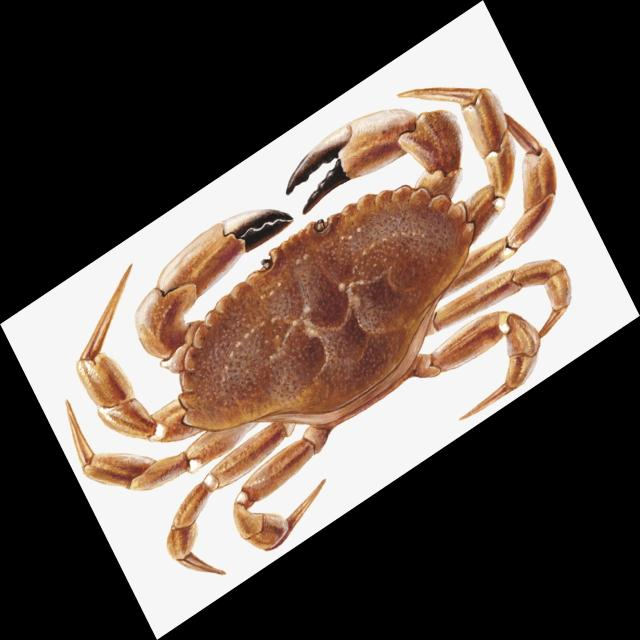Native Jonah crab: (66, 87, 571, 574)
